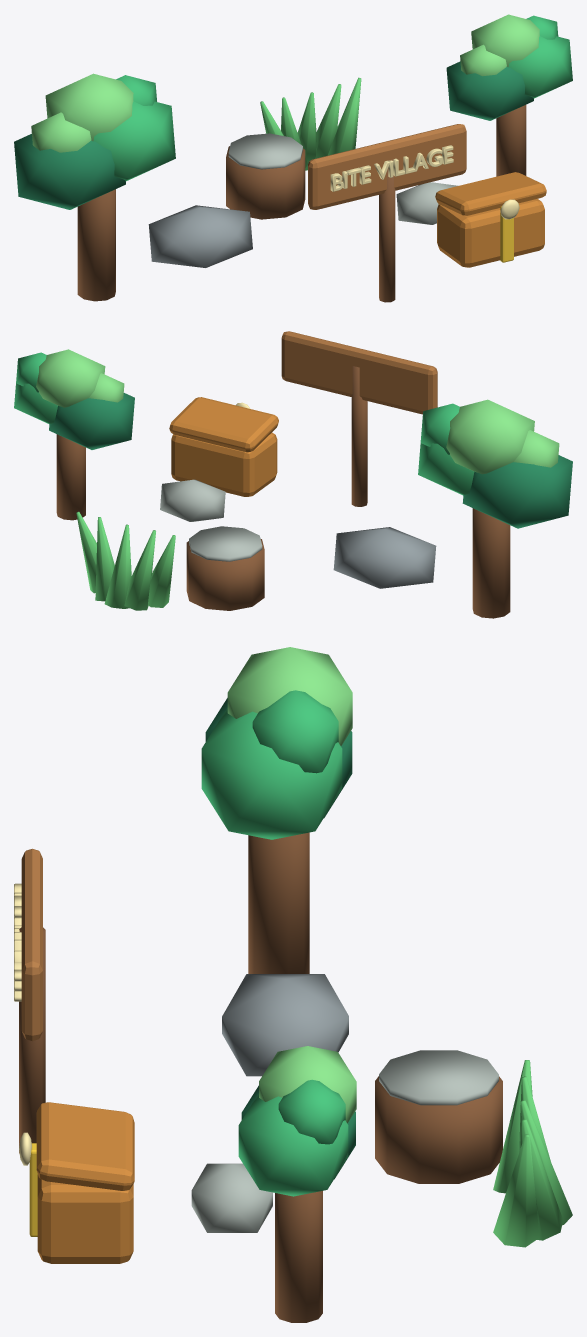
The model's file is brainbite_jungle_props.glb.
The picture shows the model from 3 angles, top to bottom: view 1: azimuth 30°, elevation 25°; view 2: azimuth 150°, elevation 25°; view 3: azimuth 270°, elevation 25°; orthographic projection. The views are drawn at different scales.
Parts seen in each view (by area): view 1: VillageSign_Board, JungleTree_A_Canopy_01, JungleRock_A, RewardChest_Body, JungleTree_A_Canopy_02, JungleStump, JungleTree_A_Trunk, JungleTree_A_Canopy_03, JungleTree_B_Canopy_01, RewardChest_Lid, JungleTree_B_Canopy_02, JungleTree_B_Canopy_03 (+14 smaller); view 2: VillageSign_Board, JungleTree_A_Canopy_01, JungleRock_A, RewardChest_Body, JungleTree_A_Canopy_03, JungleStump, JungleTree_A_Trunk, RewardChest_Lid, JungleTree_B_Canopy_01, JungleTree_B_Canopy_03, JungleTree_B_Trunk, JungleRock_B (+13 smaller); view 3: JungleTree_A_Canopy_02, JungleStump, JungleRock_A, JungleTree_A_Trunk, RewardChest_Lid, RewardChest_Body, JungleTree_B_Canopy_02, JungleTree_A_Canopy_03, JungleTree_B_Trunk, JungleStumpTop, JungleTree_A_Canopy_04, JungleRock_B (+9 smaller).
Boxes of the visible parts, box(x1,y1,x2,y2) form: VillageSign_Board: box(308, 124, 466, 209); JungleTree_A_Canopy_01: box(14, 133, 125, 209); JungleRock_A: box(148, 205, 252, 267); RewardChest_Body: box(437, 199, 544, 267); JungleTree_A_Canopy_02: box(93, 101, 175, 181); JungleStump: box(226, 146, 305, 219); JungleTree_A_Trunk: box(77, 189, 115, 301); JungleTree_A_Canopy_03: box(45, 73, 133, 141); JungleTree_B_Canopy_01: box(446, 61, 533, 120); RewardChest_Lid: box(435, 172, 546, 215); JungleTree_B_Canopy_02: box(508, 36, 572, 98); JungleTree_B_Canopy_03: box(471, 14, 539, 67); VillageSign_Board: box(281, 331, 437, 414); JungleTree_A_Canopy_01: box(462, 455, 572, 528); JungleRock_A: box(333, 527, 436, 588); RewardChest_Body: box(171, 432, 277, 496); JungleTree_A_Canopy_03: box(446, 399, 534, 474); JungleStump: box(186, 539, 264, 610); JungleTree_A_Trunk: box(472, 508, 510, 618); RewardChest_Lid: box(169, 397, 278, 452); JungleTree_B_Canopy_01: box(49, 393, 134, 449); JungleTree_B_Canopy_03: box(36, 349, 105, 407); JungleTree_B_Trunk: box(56, 434, 85, 520); JungleRock_B: box(160, 479, 225, 521); JungleTree_A_Canopy_02: box(201, 708, 342, 839); JungleStump: box(375, 1076, 502, 1183); JungleRock_A: box(222, 974, 348, 1076); JungleTree_A_Trunk: box(248, 832, 309, 973); RewardChest_Lid: box(36, 1102, 134, 1190); RewardChest_Body: box(37, 1174, 133, 1263); JungleTree_B_Canopy_02: box(238, 1093, 348, 1196); JungleTree_A_Canopy_03: box(227, 647, 352, 745); JungleTree_B_Trunk: box(275, 1191, 322, 1322); JungleStumpTop: box(379, 1050, 498, 1105); JungleTree_A_Canopy_04: box(252, 690, 338, 773); JungleRock_B: box(191, 1163, 272, 1232).
Bounding box in the file's own units: 7.6 × 2.91 × 4.19.
